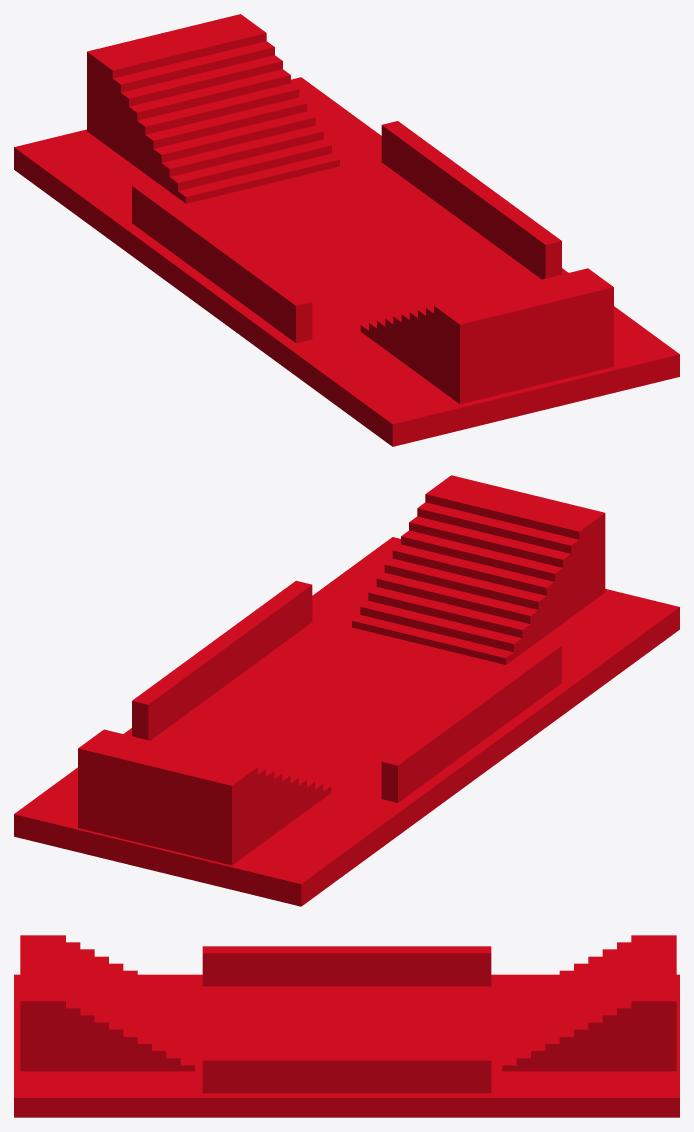
The model's file is Arena.fbx.
3 renders of one model, top to bottom at view 1: azimuth 30°, elevation 25°; view 2: azimuth 150°, elevation 25°; view 3: azimuth 270°, elevation 25°, orthographic. The views are drawn at different scales.
Parts seen in each view (by area): view 1: Arena; view 2: Arena; view 3: Arena.
Part boxes in pixels (x1,y1,x2,y2): Arena: (14,14,679,446); Arena: (14,475,679,906); Arena: (14,935,679,1117).
Size of the model in its own units: 71.75 by 24.38 by 164.
